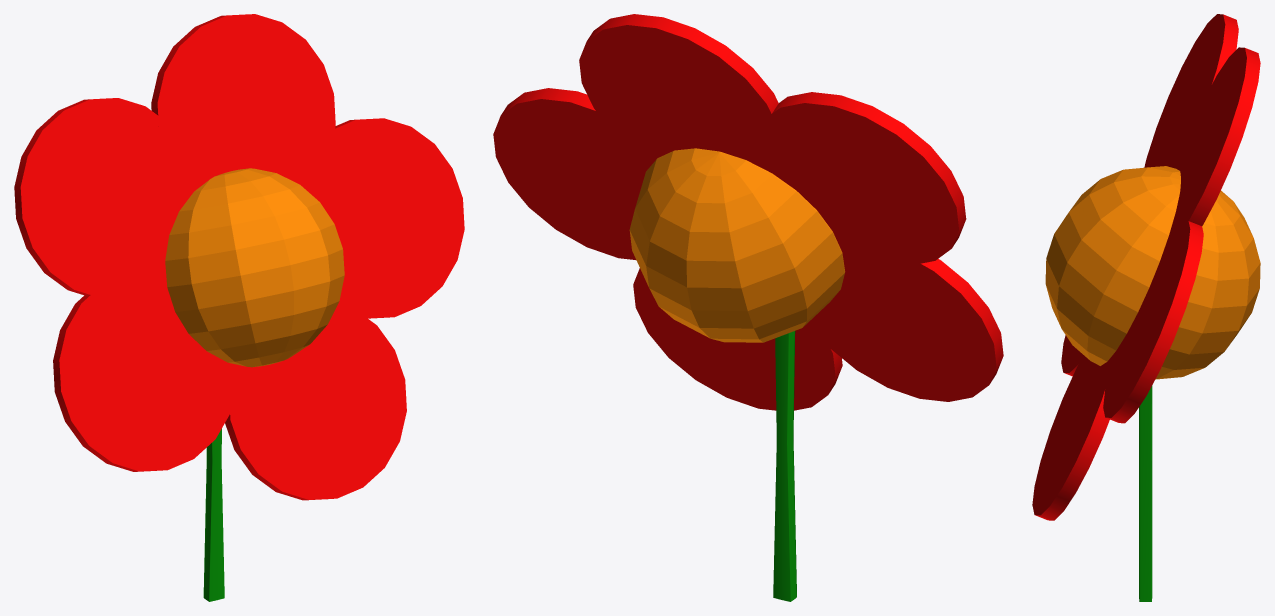
Rendered from flor_roja.obj.
3 views of the same model, side by side, from view 1: azimuth 30°, elevation 25°; view 2: azimuth 150°, elevation 25°; view 3: azimuth 270°, elevation 25° (orthographic). The views are drawn at different scales.
Parts seen in each view (by area): view 1: polySurface29; view 2: polySurface29; view 3: polySurface29.
Boxes of the visible parts, box(x1,y1,x2,y2) form: polySurface29: box(14, 14, 464, 601); polySurface29: box(493, 14, 1003, 601); polySurface29: box(1032, 14, 1260, 601).
Bounding box in the file's own units: 1.42 × 1.7 × 0.6155.
